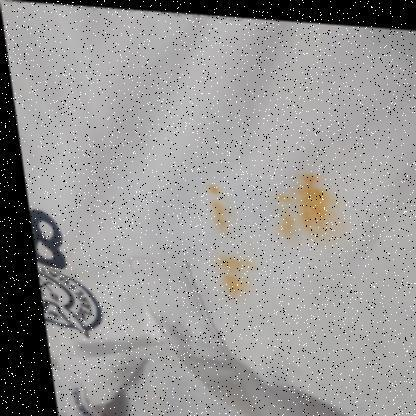kimchi: (270, 175, 341, 242), (217, 251, 254, 301), (199, 179, 235, 229)
